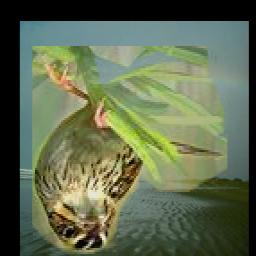Sparrow: (32, 47, 227, 256)
